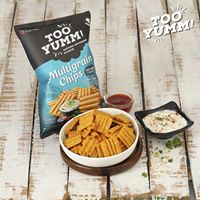plastic: (41, 8, 94, 135)
tooyumm: (143, 6, 199, 40), (42, 21, 87, 59)
wrapper: (22, 12, 108, 123)
